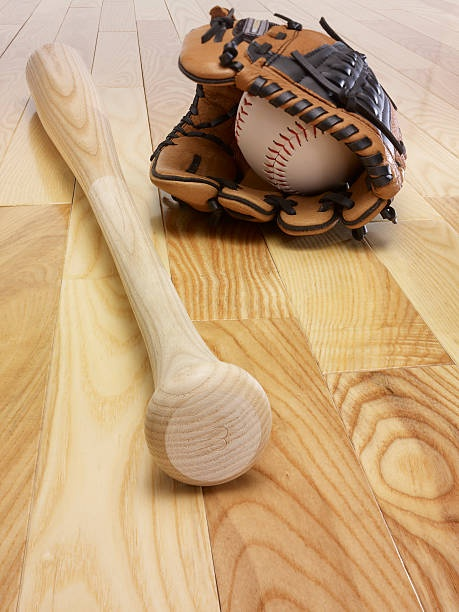bita: (12, 46, 268, 485)
